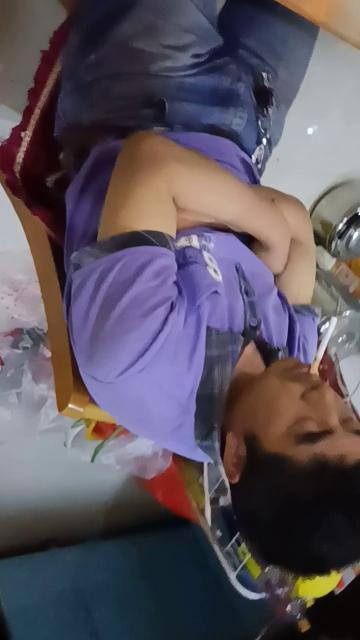Smoking: (310, 318, 338, 374)
